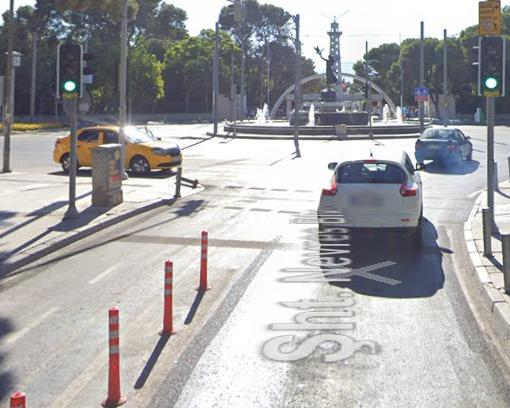greenlight: (479, 35, 504, 94), (59, 43, 80, 97)
